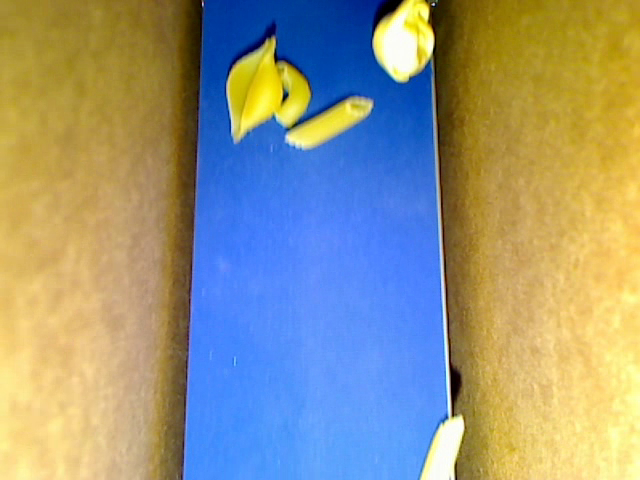elbow: (273, 60, 311, 129)
penne: (285, 95, 372, 150), (419, 414, 465, 479)
shell: (226, 35, 281, 143)
tortellini: (374, 1, 436, 84)
